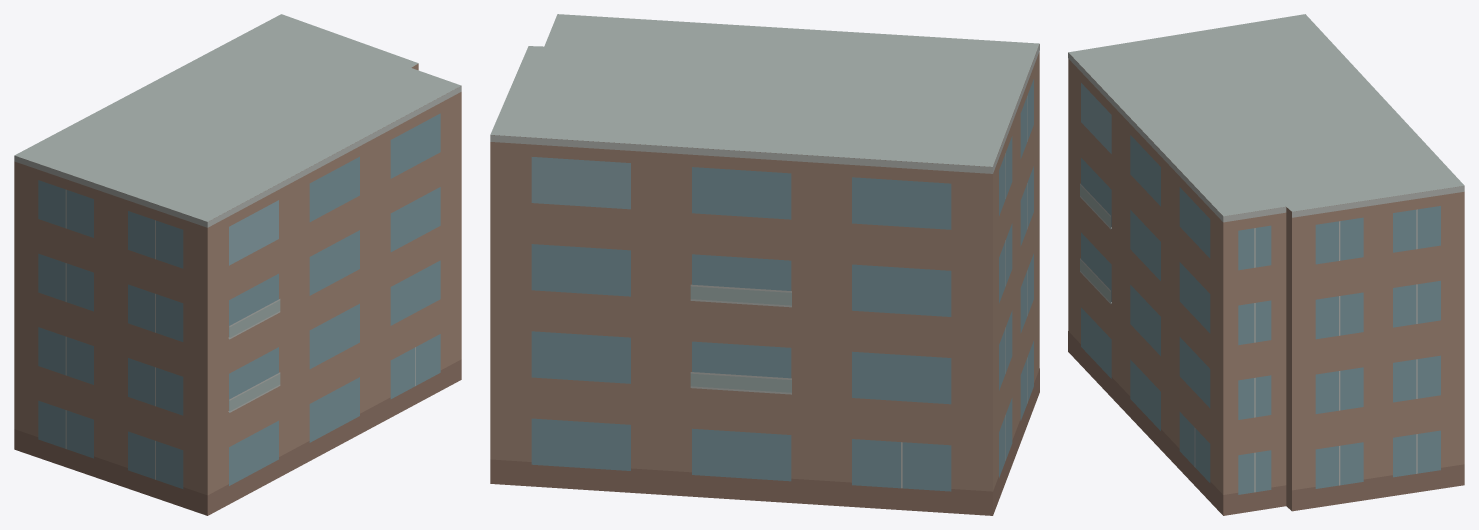
The model's file is survey-upis-32840335.glb.
3 renders of one model, left to right at view 1: azimuth 30°, elevation 25°; view 2: azimuth 150°, elevation 25°; view 3: azimuth 270°, elevation 25°, orthographic. The views are drawn at different scales.
Parts seen in each view (by area): view 1: survey-upis-32840335.tmp; view 2: survey-upis-32840335.tmp; view 3: survey-upis-32840335.tmp.
Boxes of the visible parts, left/top/right/bottom form: survey-upis-32840335.tmp: left=14, top=14, right=461, bottom=515; survey-upis-32840335.tmp: left=490, top=14, right=1039, bottom=515; survey-upis-32840335.tmp: left=1068, top=14, right=1464, bottom=515.
Size of the model in its own units: 17.55 by 12.1 by 14.53.
